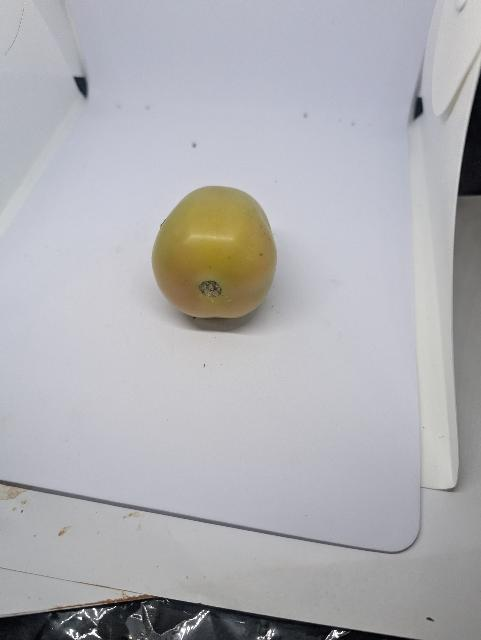breaker: (150, 184, 281, 321)
